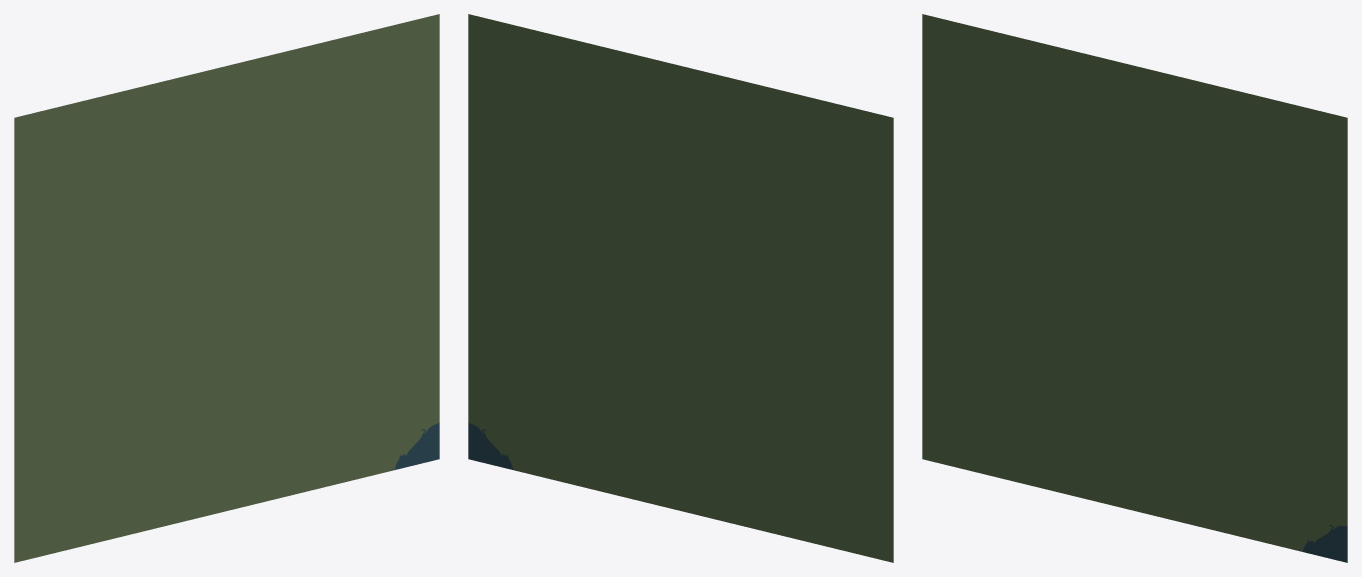
Rendered from shape_114_Coast_14.glb.
3 renders of one model, left to right at view 1: azimuth 30°, elevation 25°; view 2: azimuth 150°, elevation 25°; view 3: azimuth 330°, elevation 25°, orthographic.
Bounding box in the file's own units: 4096 × 4096 × 0.
